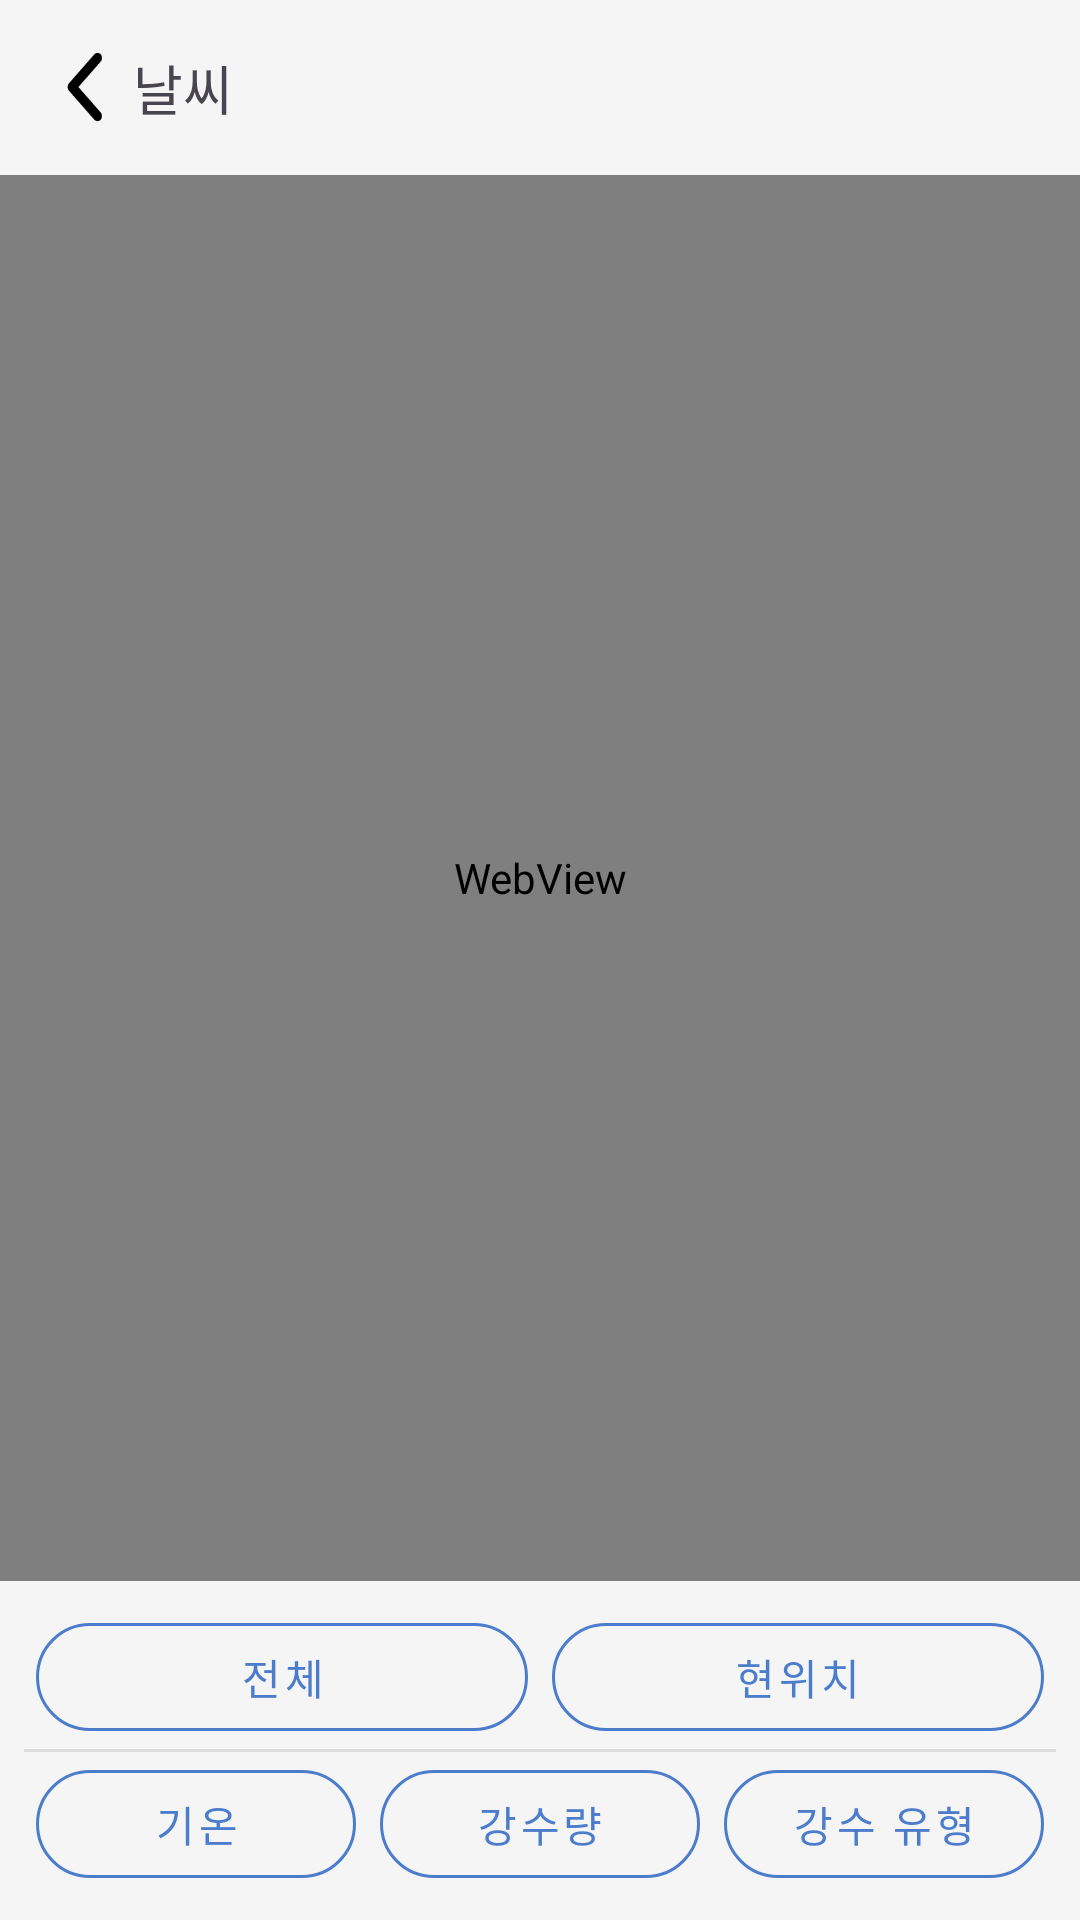

Named icons in this screenshot (1080x1920) and their centers, (x=x, y=y):
back arrow: (x=84, y=87)
